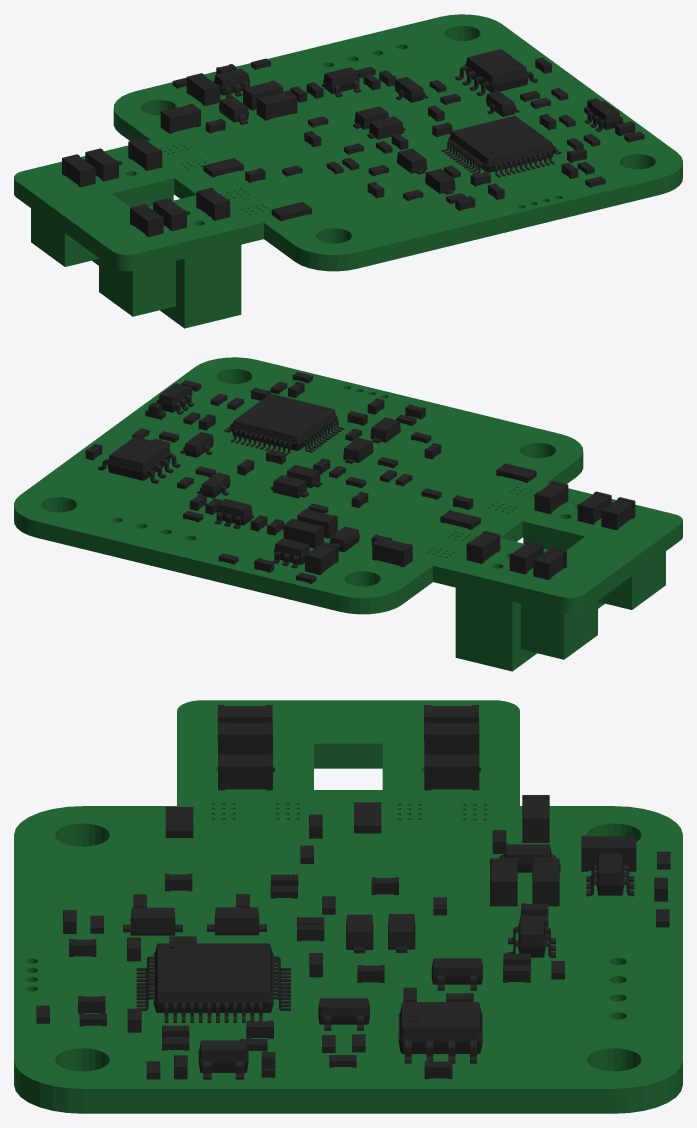
Rendered from body.glb.
3 views of the same model, one above another, from view 1: azimuth 30°, elevation 25°; view 2: azimuth 150°, elevation 25°; view 3: azimuth 270°, elevation 25° (orthographic). The views are drawn at different scales.
Parts seen in each view (by area): view 1: pcb, parts; view 2: pcb, parts; view 3: pcb, parts.
Part boxes in pixels (x1,y1,x2,y2): pcb: (14,14,682,328); parts: (62,49,644,237); pcb: (14,357,682,671); parts: (85,372,635,583); pcb: (14,700,682,1113); parts: (36,705,670,1079).
Size of the model in its own units: 0.0536 by 0.0104 by 0.039.
